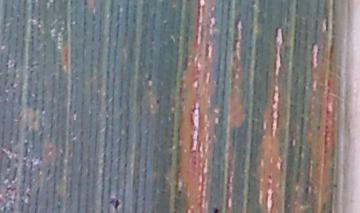tarspot: (108, 198, 121, 211), (303, 185, 311, 196), (155, 98, 161, 105), (213, 207, 219, 213)
